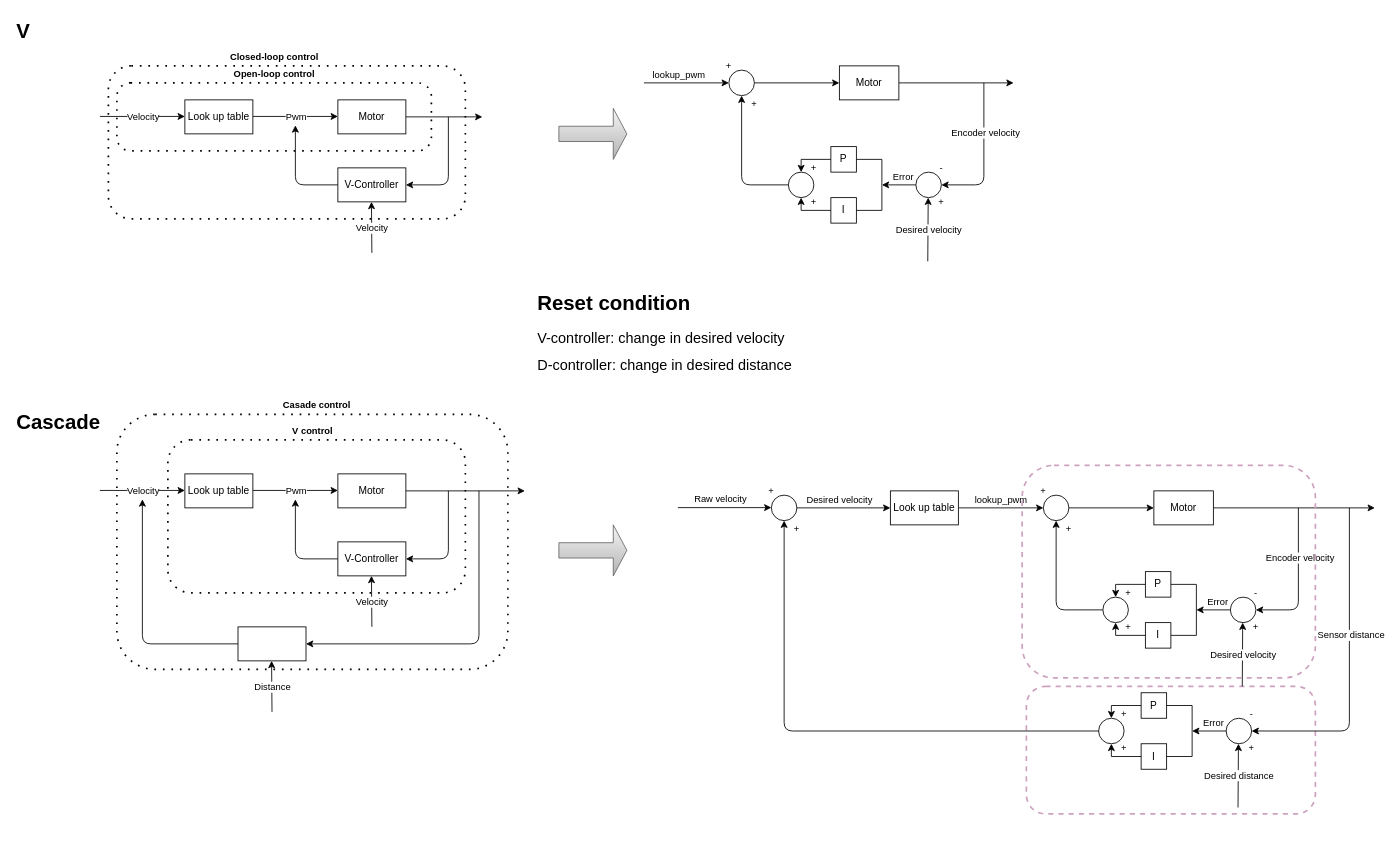
The diagram is 1398 pixels wide and 847 high, and some of its shapes have lost their labels. The box of each missing label's shape, as (x1, y1, x2, y2) in pixels:
D-Controller: (237, 626, 306, 661)
Loop with customized encoder frequency: (1021, 464, 1316, 678)
Loop with sensor frequency: (1025, 685, 1316, 814)
